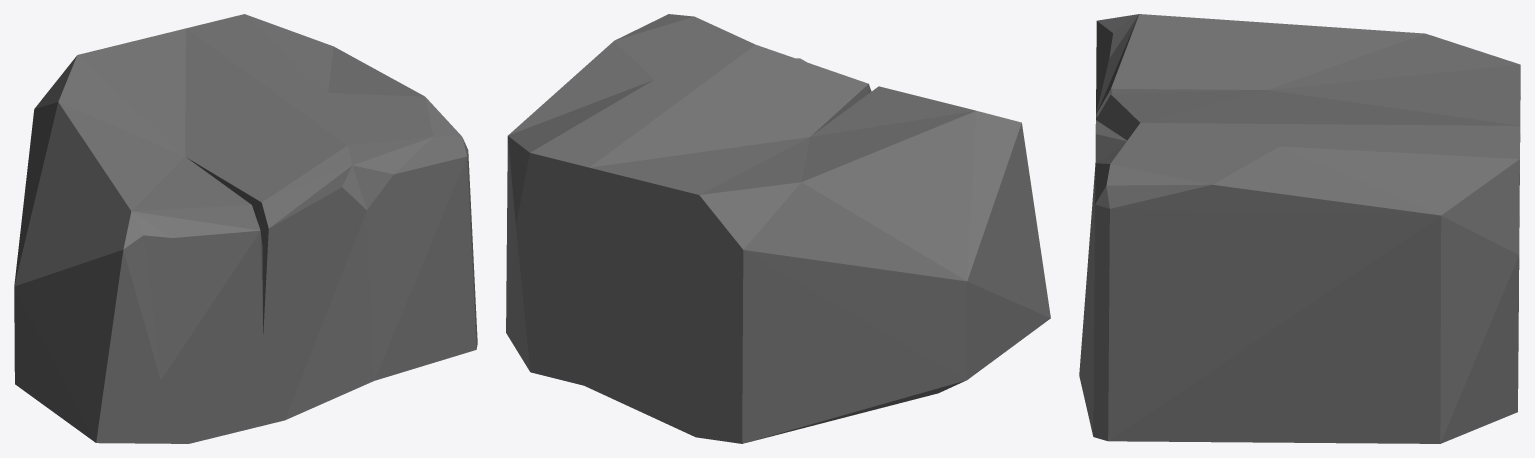
The model's file is rock_018.glb.
3 renders of one model, left to right at view 1: azimuth 30°, elevation 25°; view 2: azimuth 150°, elevation 25°; view 3: azimuth 270°, elevation 25°, orthographic. The views are drawn at different scales.
Parts seen in each view (by area): view 1: rock_018; view 2: rock_018; view 3: rock_018.
Boxes of the visible parts, x1=… form: rock_018: x1=14, y1=14, x2=477, y2=443; rock_018: x1=506, y1=14, x2=1050, y2=443; rock_018: x1=1079, y1=14, x2=1520, y2=443.
Size of the model in its own units: 25.27 by 15.12 by 21.34.
1 material, 1 textured.
